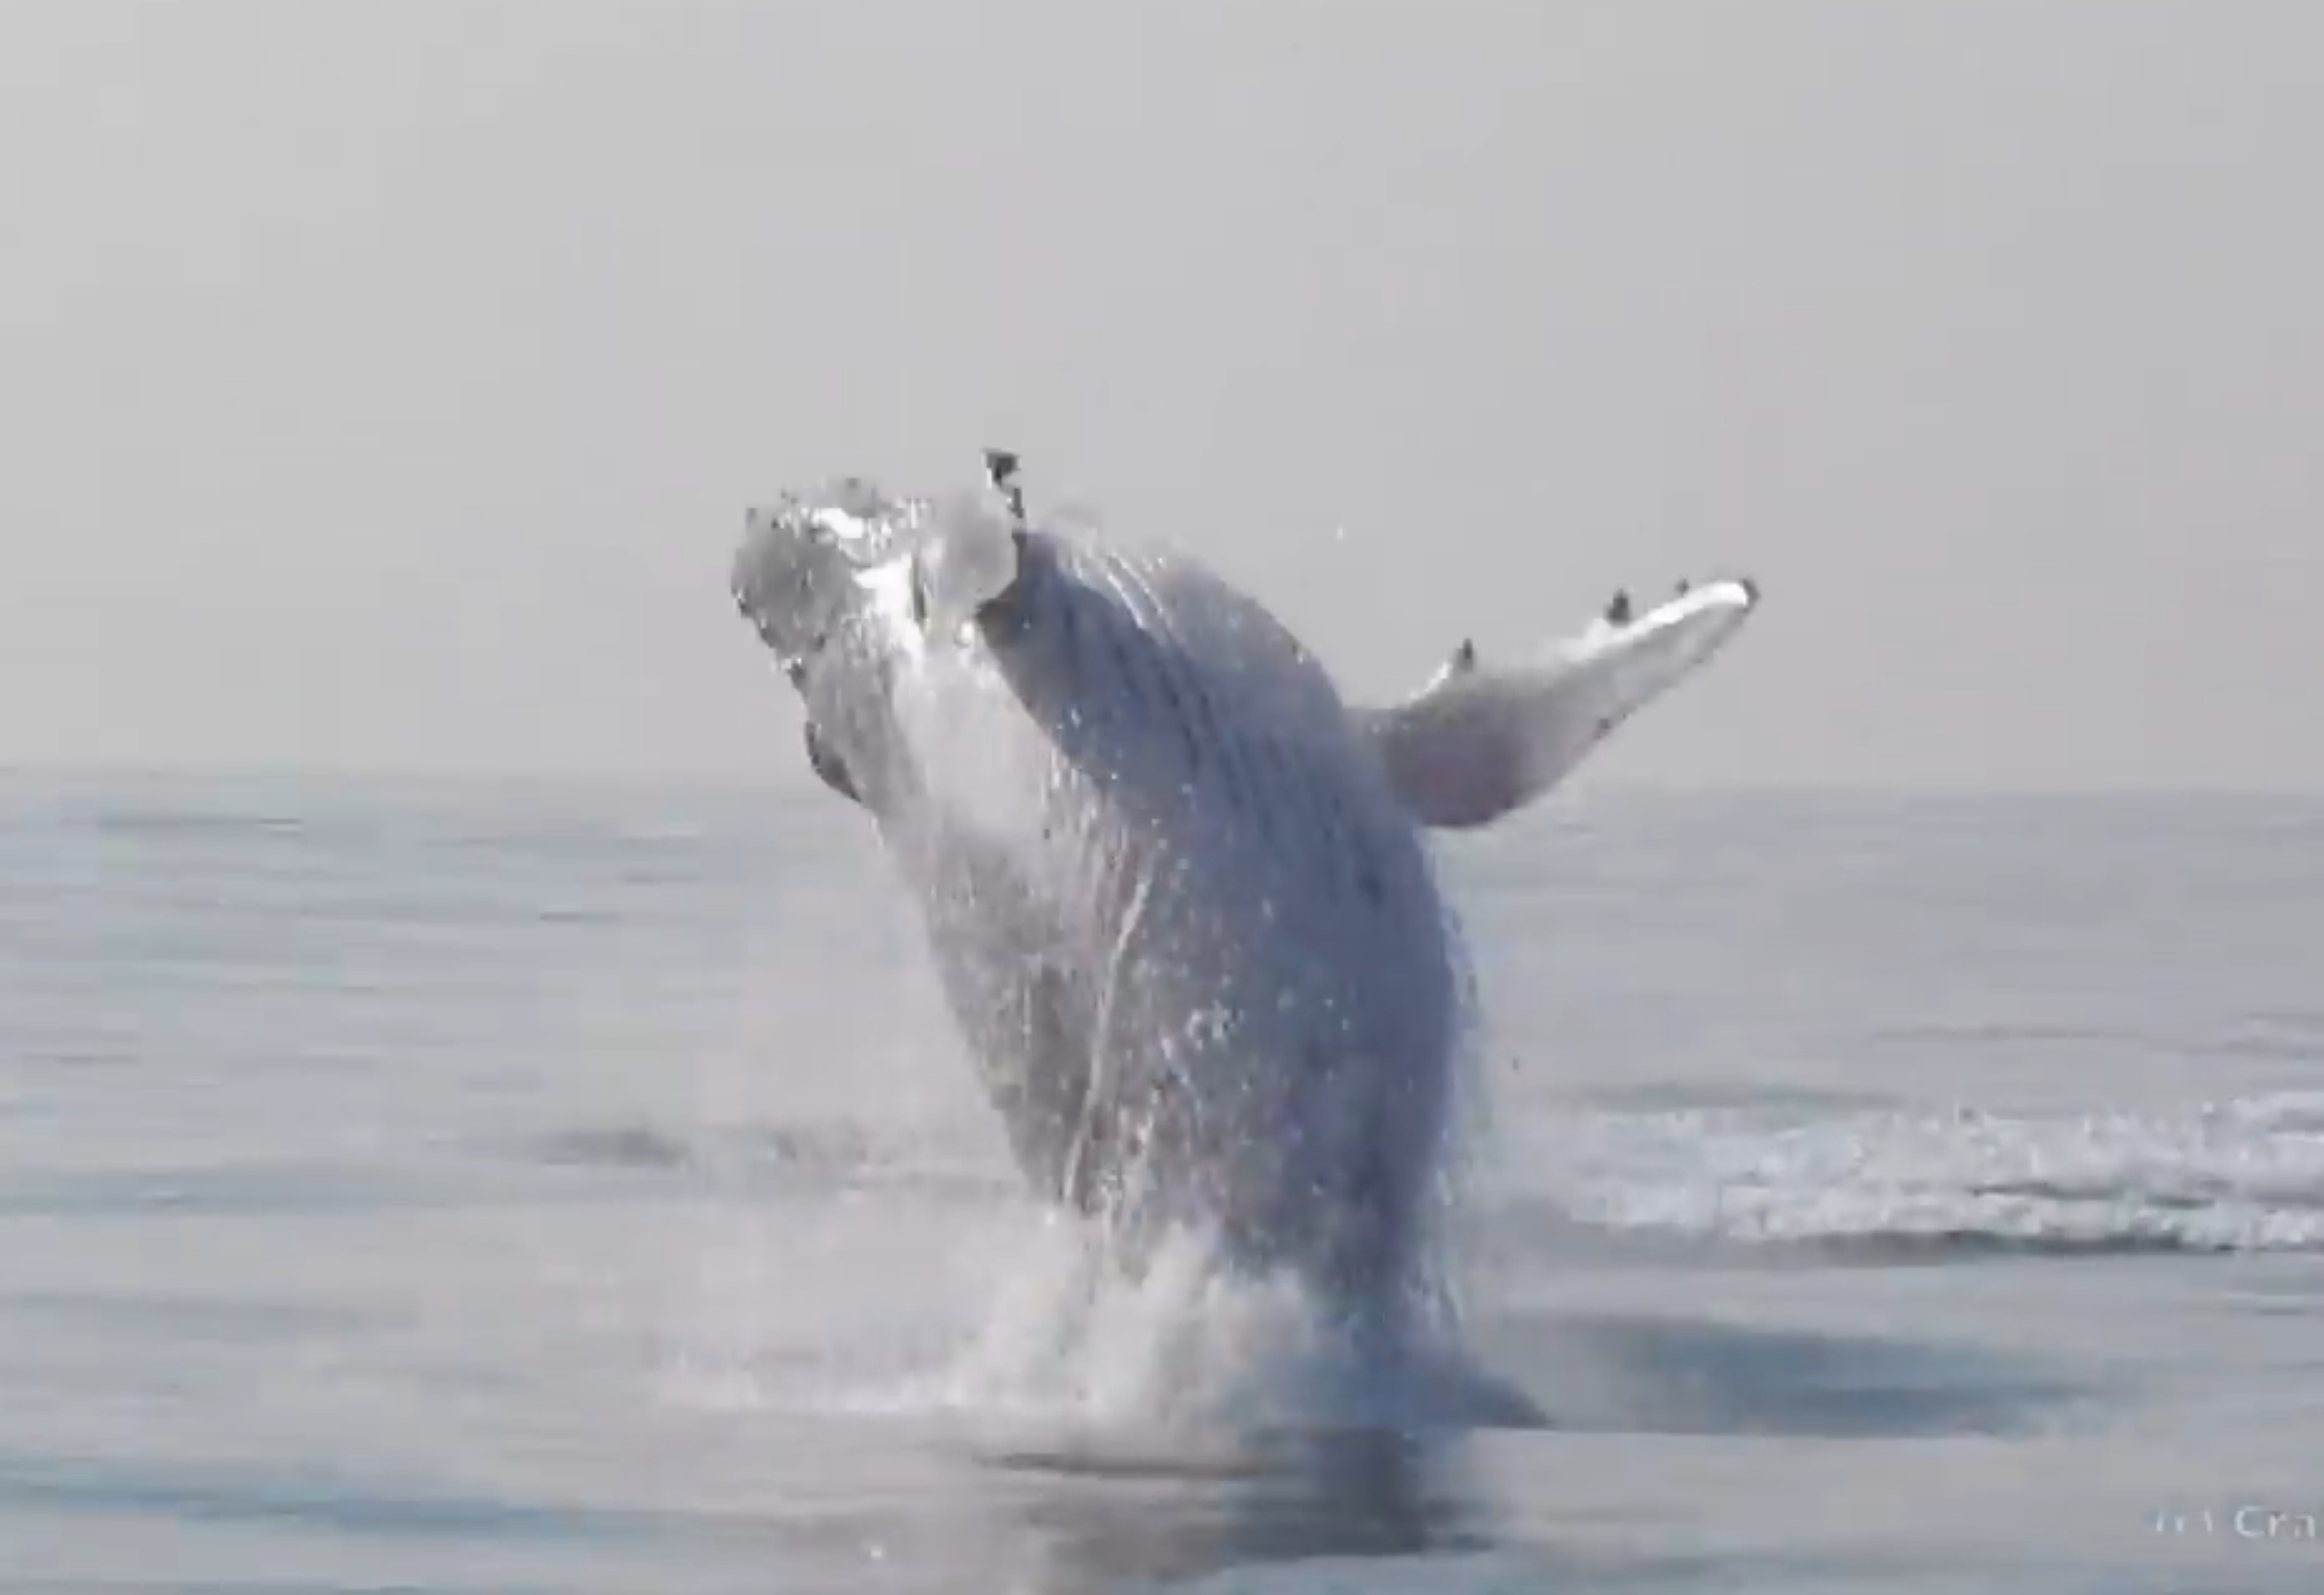humpback: (735, 482, 1462, 1242)
